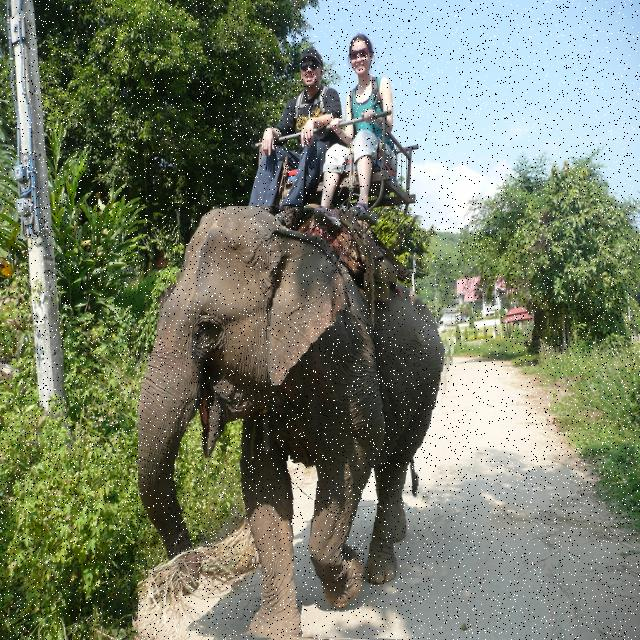elephant: (138, 206, 456, 640)
